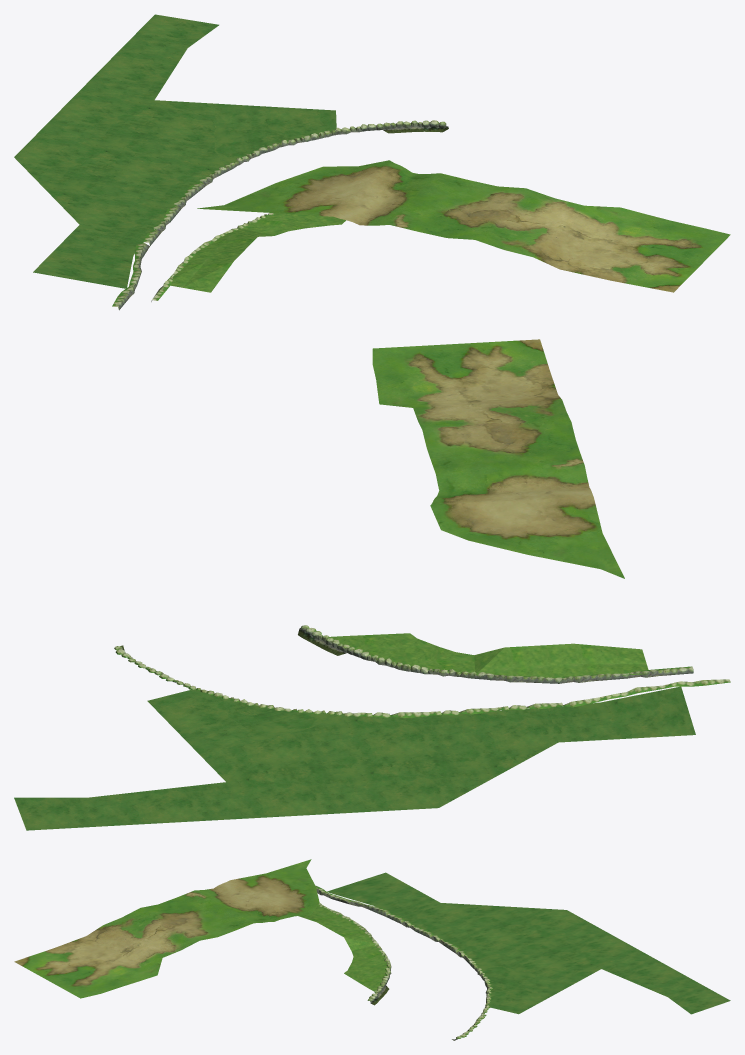
3 views of the same model, one above another, from view 1: azimuth 30°, elevation 25°; view 2: azimuth 150°, elevation 25°; view 3: azimuth 270°, elevation 25° (orthographic). The views are drawn at different scales.
Visible parts, largest first — view 1: _360_sa01aflo010, Mesh_0812_rip, _364_sa01aobj001_02, _368_sa01aflo004_001_0368_sa01aflo004_039; view 2: _360_sa01aflo010, Mesh_0812_rip, _368_sa01aflo004_001_0368_sa01aflo004_039, _364_sa01aobj001_02; view 3: _360_sa01aflo010, Mesh_0812_rip, _368_sa01aflo004_001_0368_sa01aflo004_039, _364_sa01aobj001_02.
Boxes of the visible parts, x1,y1,x2,y2 form: _360_sa01aflo010: [14, 14, 336, 288]; Mesh_0812_rip: [197, 160, 730, 292]; _364_sa01aobj001_02: [112, 120, 448, 310]; _368_sa01aflo004_001_0368_sa01aflo004_039: [163, 213, 345, 292]; _360_sa01aflo010: [14, 686, 695, 830]; Mesh_0812_rip: [372, 339, 624, 578]; _368_sa01aflo004_001_0368_sa01aflo004_039: [329, 633, 649, 677]; _364_sa01aobj001_02: [114, 625, 730, 717]; _360_sa01aflo010: [327, 872, 730, 1014]; Mesh_0812_rip: [14, 859, 319, 998]; _368_sa01aflo004_001_0368_sa01aflo004_039: [298, 906, 387, 991]; _364_sa01aobj001_02: [315, 885, 492, 1040].
Bounding box in the file's own units: 96.08 × 17.17 × 164.
Materials: 4 (4 with a texture image).
